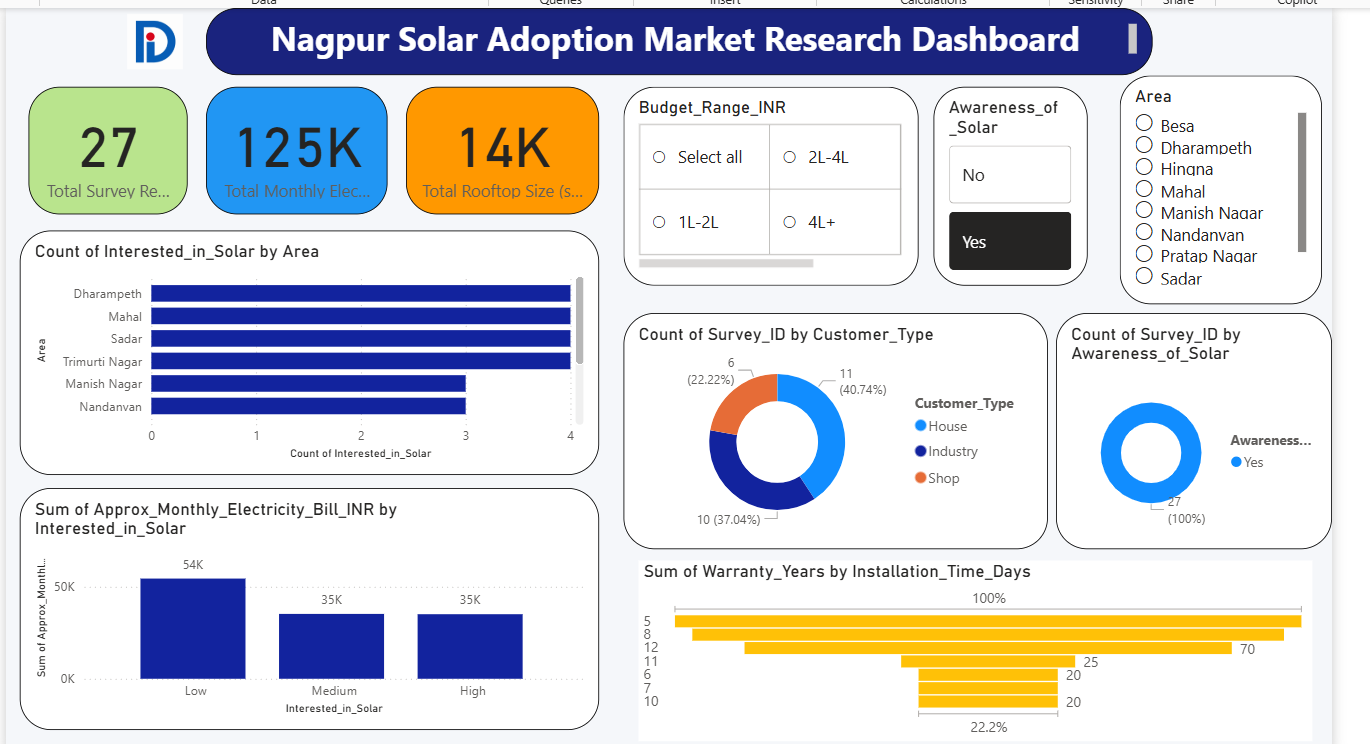

The dashboard page shown, as its layout file describes it:
{"tool":"powerbi","page":{"name":"Page 1","canvas":[1280,720],"ordinal":0},"visuals":[{"type":"textbox","box":[193,0,914,65.1],"z":0},{"type":"card","fields":{"Values":["CountNonNull(Customer_Survey_Data.Survey_ID)"]},"box":[22.1,75.6,153.5,123.3],"z":1000},{"type":"card","fields":{"Values":["Sum(Customer_Survey_Data.Approx_Monthly_Electricity_Bill_INR)"]},"box":[193,75.6,175.6,123.3],"z":2000},{"type":"card","fields":{"Values":["Sum(Customer_Survey_Data.Estimated_Rooftop_Size_sqft)"]},"box":[386,75.6,186,123.3],"z":3000},{"type":"barChart","fields":{"Category":["Customer_Survey_Data.Area"],"Y":["CountNonNull(Customer_Survey_Data.Interested_in_Solar)"]},"box":[12.8,215.1,559.3,236],"z":4000},{"type":"donutChart","fields":{"Category":["Customer_Survey_Data.Customer_Type"],"Y":["CountNonNull(Customer_Survey_Data.Survey_ID)"]},"box":[596.5,294.2,409.3,227.9],"z":5000},{"type":"clusteredColumnChart","fields":{"Category":["Customer_Survey_Data.Interested_in_Solar"],"Y":["Sum(Customer_Survey_Data.Approx_Monthly_Electricity_Bill_INR)"]},"box":[12.8,462.8,559.3,233.7],"z":6000},{"type":"donutChart","fields":{"Category":["Customer_Survey_Data.Awareness_of_Solar"],"Y":["CountNonNull(Customer_Survey_Data.Survey_ID)"]},"box":[1014,294.2,266.3,227.9],"z":7000},{"type":"advancedSlicerVisual","fields":{"Values":["Customer_Survey_Data.Budget_Range_INR"]},"box":[596.5,75.6,284.9,191.9],"z":8000},{"type":"advancedSlicerVisual","fields":{"Values":["Customer_Survey_Data.Awareness_of_Solar"]},"box":[895.4,75.6,148.8,191.9],"z":9000},{"type":"listSlicer","fields":{"Values":["Customer_Survey_Data.Area"]},"box":[1074.4,65.1,195.3,220.9],"z":10000},{"type":"funnel","fields":{"Category":["Competitor_Analysis.Installation_Time_Days"],"Y":["Sum(Competitor_Analysis.Warranty_Years)"]},"box":[610.5,533.7,650,174.4],"z":11000},{"type":"image","box":[112.4,0,63.5,64.6],"z":11001}]}

Visuals, with their boxes in screenshot pixels (x1, y1, x2, y2):
textbox: detection(204, 4, 1138, 70)
card - CountNonNull(Customer_Survey_Data.Survey_ID): detection(30, 81, 186, 207)
card - Sum(Customer_Survey_Data.Approx_Monthly_Electricity_Bill_INR): detection(204, 81, 384, 207)
card - Sum(Customer_Survey_Data.Estimated_Rooftop_Size_sqft): detection(401, 81, 591, 207)
barChart - Customer_Survey_Data.Area x CountNonNull(Customer_Survey_Data.Interested_in_Solar): detection(20, 223, 591, 464)
donutChart - Customer_Survey_Data.Customer_Type x CountNonNull(Customer_Survey_Data.Survey_ID): detection(616, 304, 1034, 537)
clusteredColumnChart - Customer_Survey_Data.Interested_in_Solar x Sum(Customer_Survey_Data.Approx_Monthly_Electricity_Bill_INR): detection(20, 476, 591, 715)
donutChart - Customer_Survey_Data.Awareness_of_Solar x CountNonNull(Customer_Survey_Data.Survey_ID): detection(1043, 304, 1315, 537)
advancedSlicerVisual - Customer_Survey_Data.Budget_Range_INR: detection(616, 81, 907, 277)
advancedSlicerVisual - Customer_Survey_Data.Awareness_of_Solar: detection(922, 81, 1074, 277)
listSlicer - Customer_Survey_Data.Area: detection(1104, 70, 1304, 296)
funnel - Competitor_Analysis.Installation_Time_Days x Sum(Competitor_Analysis.Warranty_Years): detection(631, 549, 1295, 727)
image: detection(122, 4, 187, 70)
